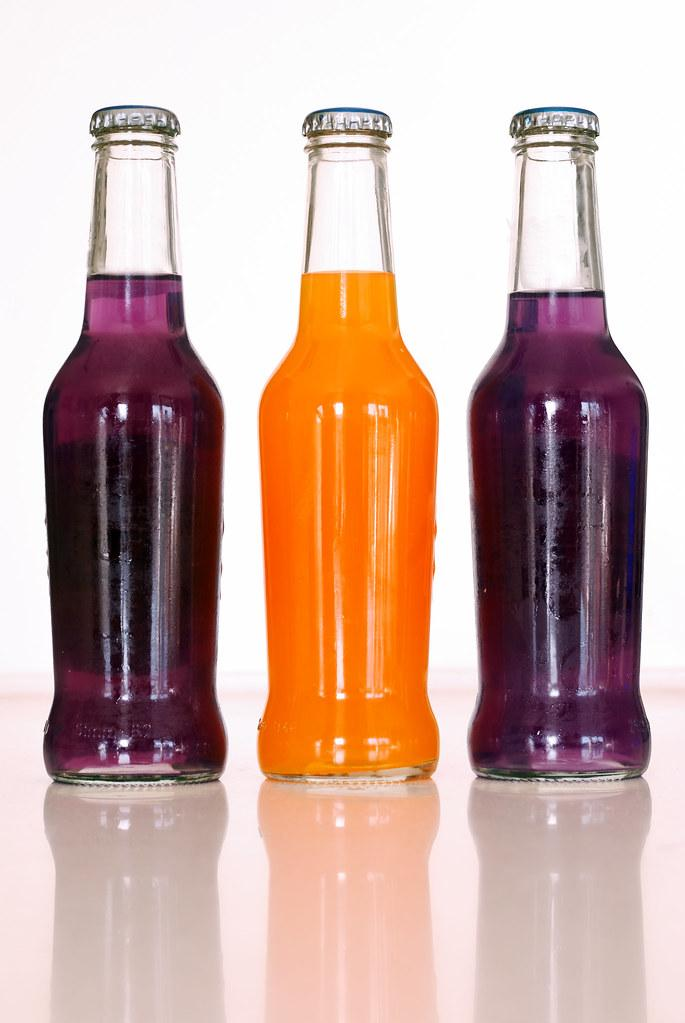bottle: (42, 105, 229, 787), (466, 105, 653, 783), (257, 107, 441, 785), (43, 782, 230, 1022)
